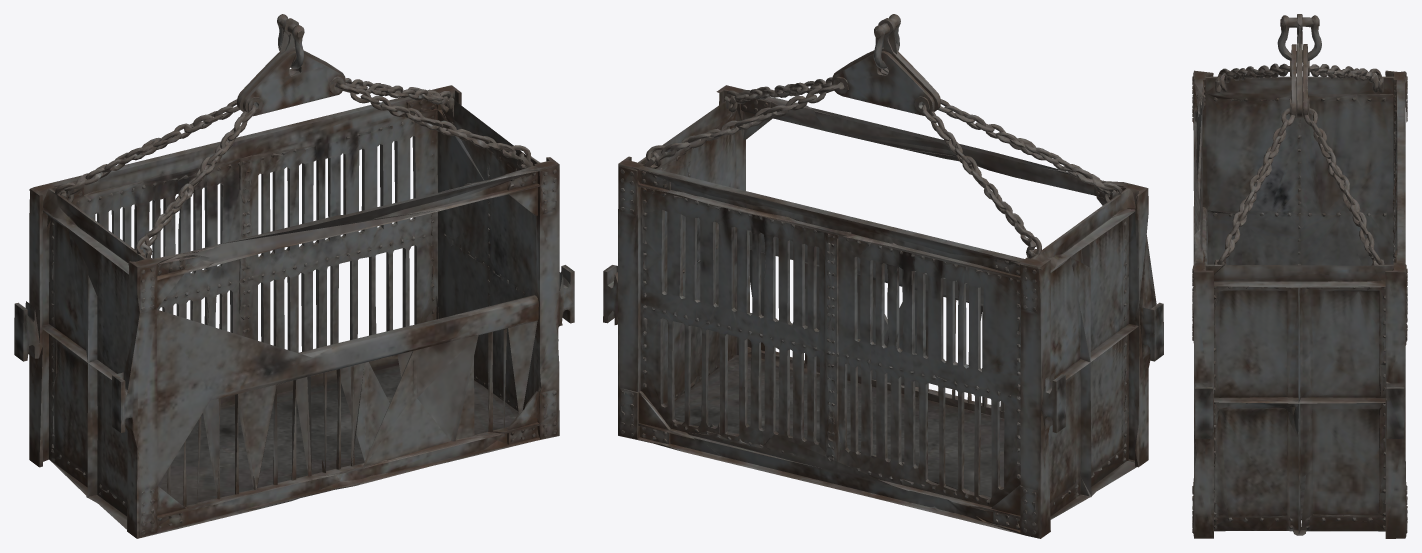
The model's file is g4_cage_a.glb.
The picture shows the model from 3 angles, left to right: view 1: azimuth 30°, elevation 25°; view 2: azimuth 150°, elevation 25°; view 3: azimuth 270°, elevation 25°; orthographic projection. The views are drawn at different scales.
Parts seen in each view (by area): view 1: main; view 2: main; view 3: main.
Part boxes in pixels (bbox=[...]): main: bbox=[14, 14, 574, 538]; main: bbox=[603, 14, 1163, 538]; main: bbox=[1192, 14, 1407, 538].
Size of the model in its own units: 4.57 by 4.14 by 1.92.
1 material, 1 textured.
